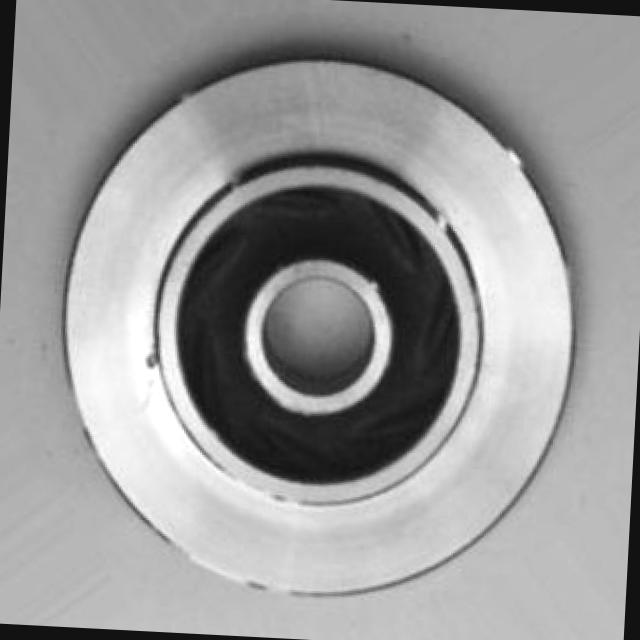Defect: (140, 349, 166, 382)
